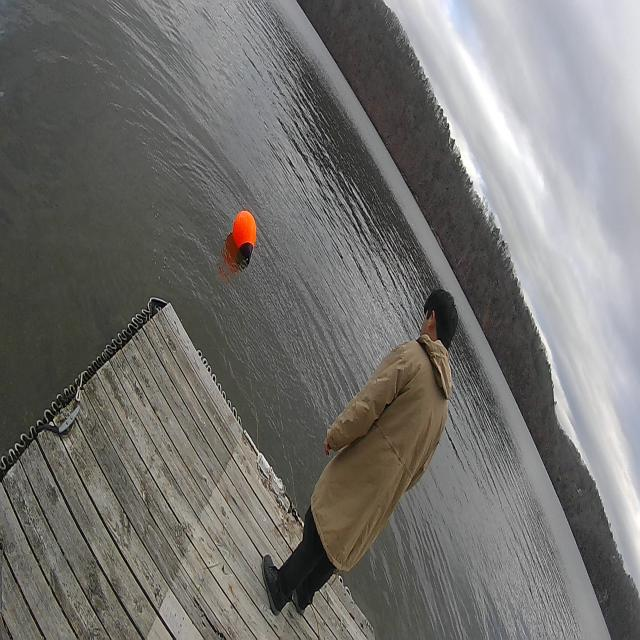Buoy: (230, 206, 260, 262)
